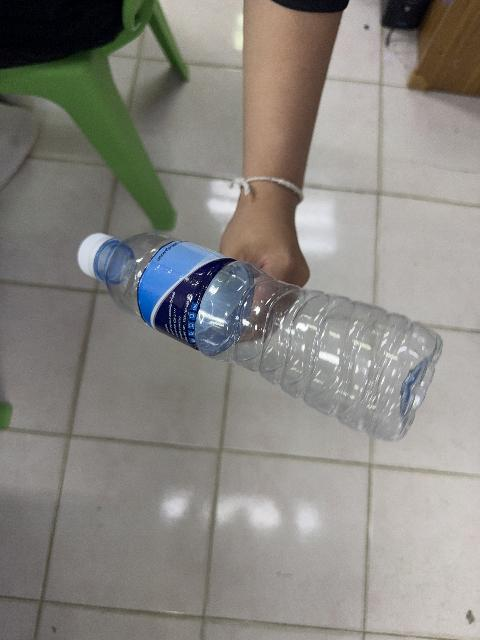bottle: (77, 234, 441, 440)
